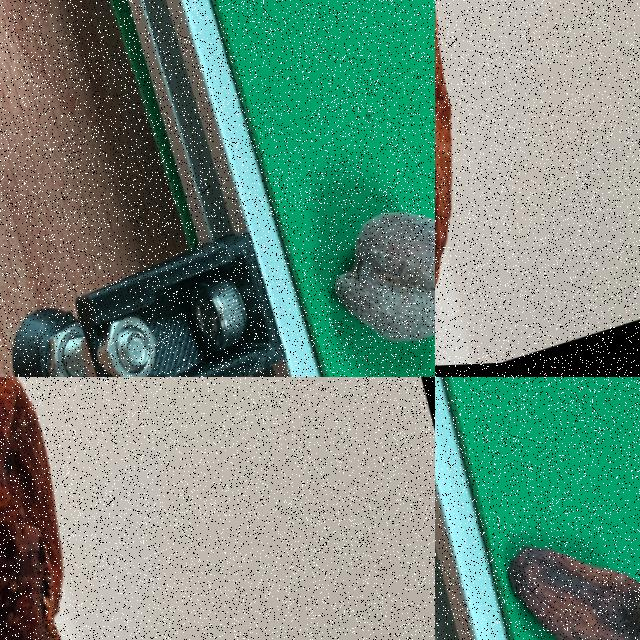Agglomerated_cocoabeans: (253, 83, 434, 376), (0, 377, 183, 639), (435, 0, 525, 374)
Flat_cocoabeans: (458, 429, 639, 639)
